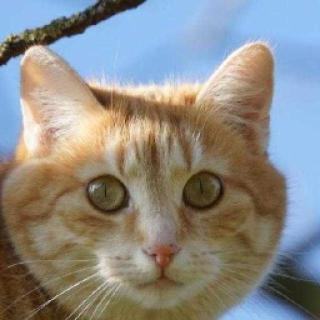cat: (13, 47, 293, 301)
nose: (134, 209, 188, 270)
